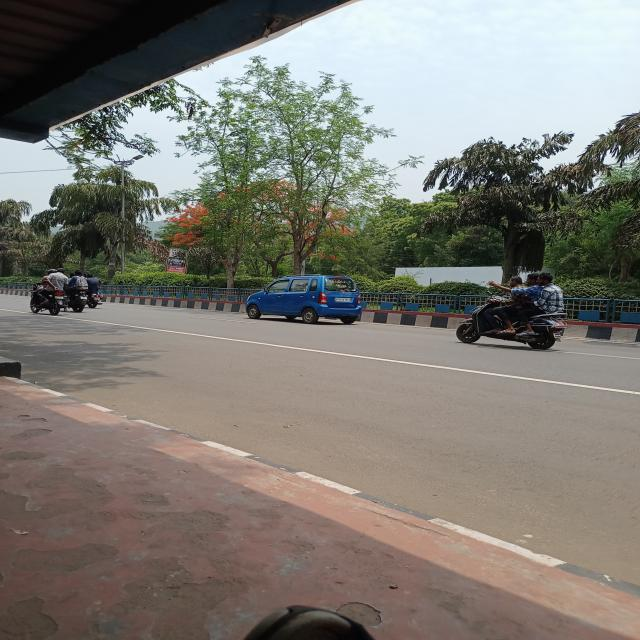bike: (452, 291, 582, 356), (28, 284, 71, 315), (74, 285, 99, 316)
car: (242, 270, 362, 336)
